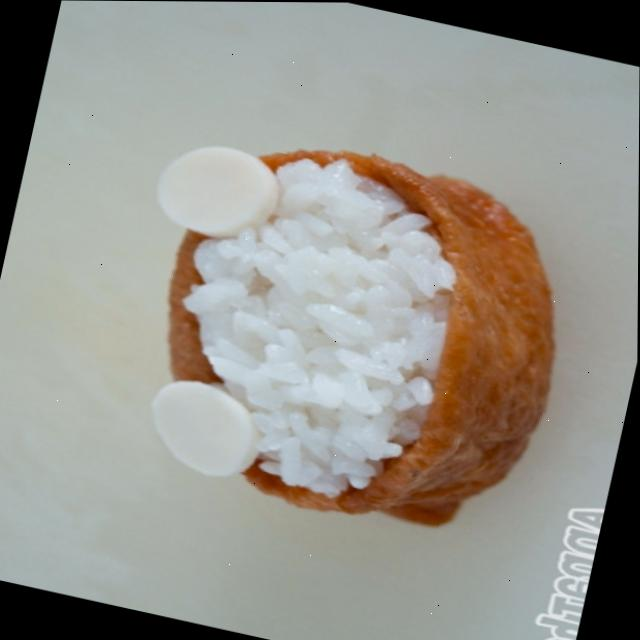寿司卷物: (82, 98, 592, 562)
